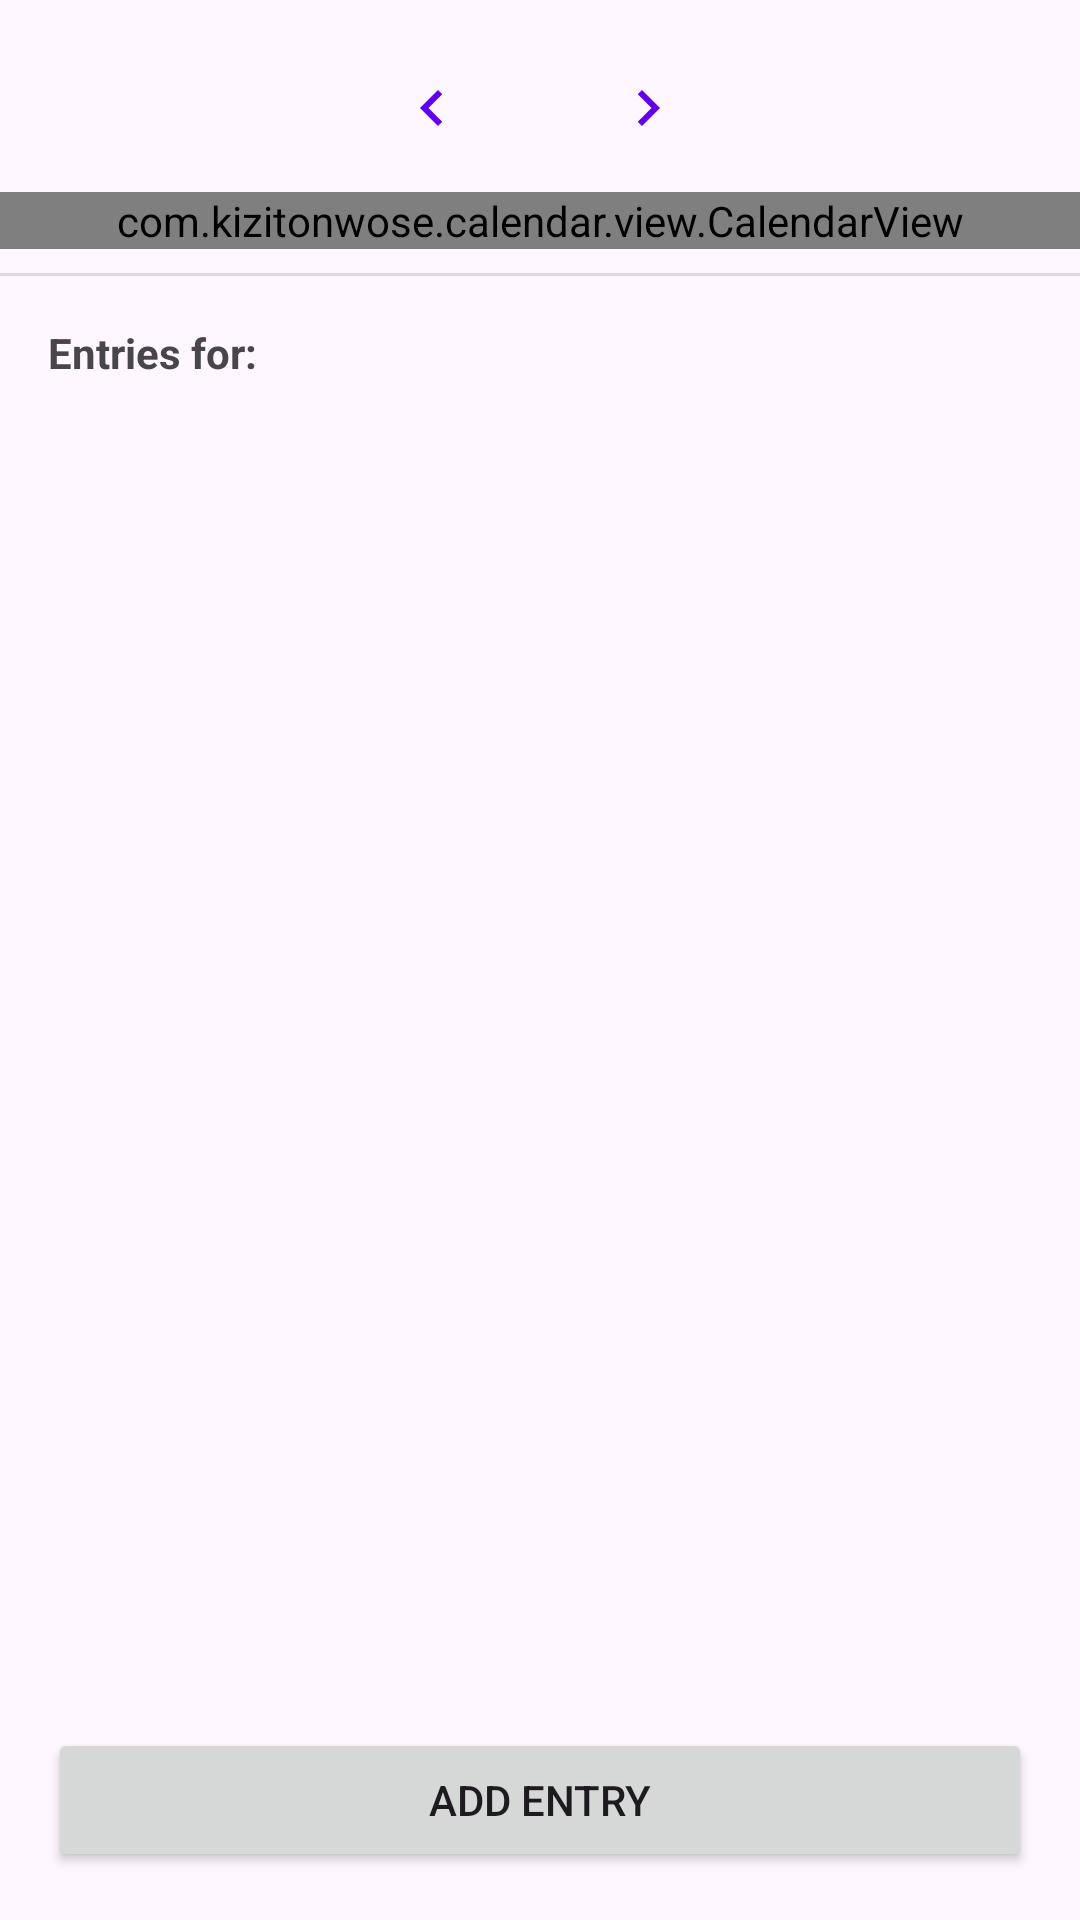

Screen size 1080 × 1920. Icon name, then its center in pixels as (x,y):
Next Month: (649,108)
Previous Month: (431,108)
